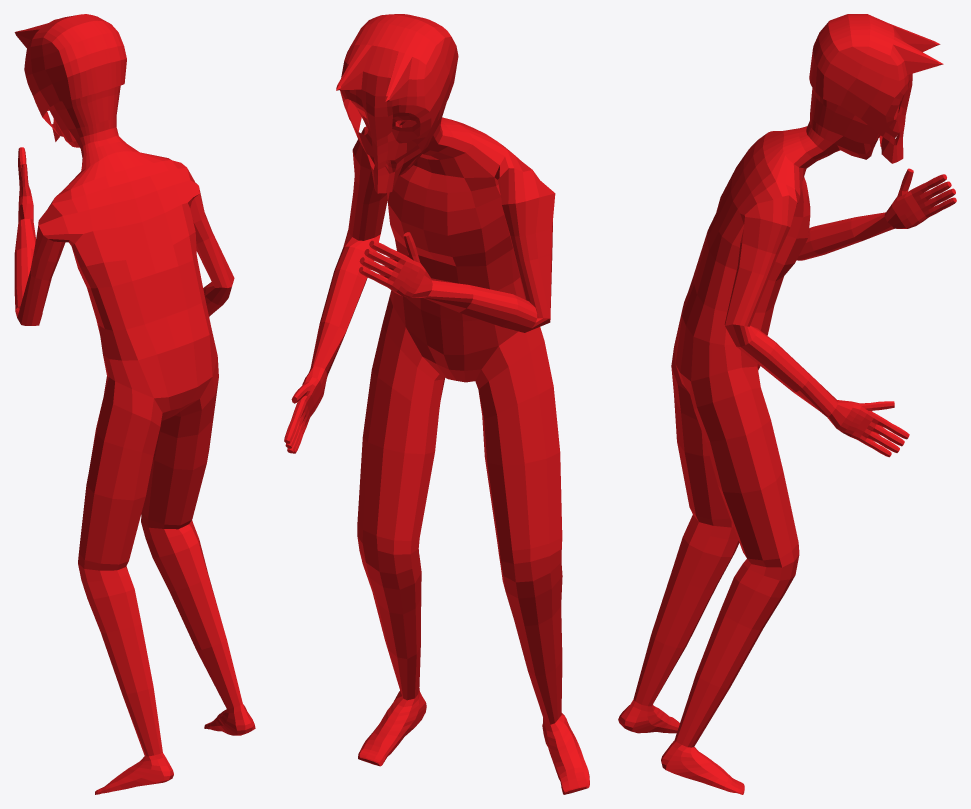
The model's file is correrE_000097.obj.
The picture shows the model from 3 angles, left to right: view 1: azimuth 30°, elevation 25°; view 2: azimuth 150°, elevation 25°; view 3: azimuth 270°, elevation 25°; orthographic projection. The views are drawn at different scales.
Parts seen in each view (by area): view 1: Plane.002_Plane.001; view 2: Plane.002_Plane.001; view 3: Plane.002_Plane.001.
Part boxes in pixels (left/top/right/bottom): Plane.002_Plane.001: left=14, top=14, right=255, bottom=794; Plane.002_Plane.001: left=284, top=14, right=589, bottom=794; Plane.002_Plane.001: left=618, top=14, right=956, bottom=794.
Bounding box in the file's own units: 1.96 × 6.8 × 2.81.
